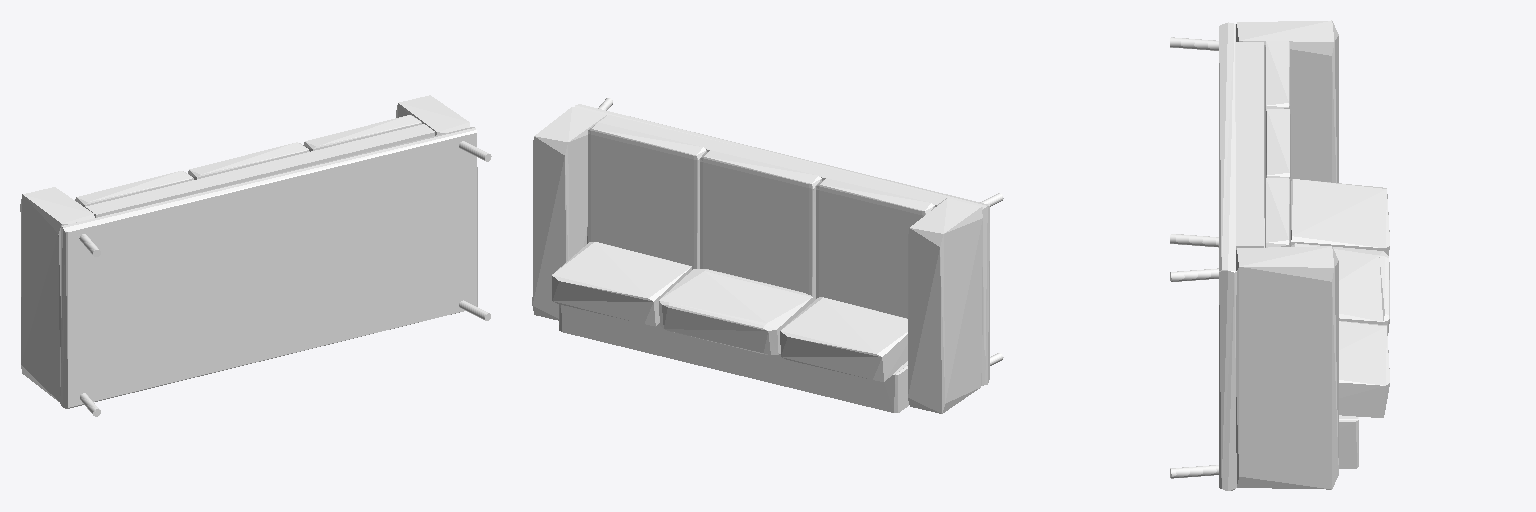
The robot description file, URDF, robot "simple_couch3.obj":
<robot name="simple_couch3.obj">
	<link name="_name">
		<visual>
			<origin xyz="0 0 0" rpy="0 0 0" />
			<geometry>
				<mesh filename="simple_couch3.obj" scale="1.0 1.0 1.0" />
			</geometry>
			<material name="texture">
				<color rgba="1.0 1.0 1.0 1.0" />
			</material>
		</visual>
		<collision>
			<geometry>
				<mesh filename="simple_couch3_vhacd.obj" scale="1.0 1.0 1.0" />
			</geometry>
		</collision>
		<inertial>
			<mass value="1.0" />
			<inertia ixx="1.0" ixy="0.0" ixz="0.0" iyy="1.0" iyz="0.0" izz="1.0" />
		</inertial>
	</link>
</robot>

--- Render facts (derived) ---
3 views of the same robot in one strip: view 1: azimuth 30°, elevation 25°; view 2: azimuth 150°, elevation 25°; view 3: azimuth 270°, elevation 25° (orthographic).
Model simple_couch3.obj with 1 links and 0 joints (none), rooted at _name, posed all joints at 0.
Links seen in each view (by area): view 1: _name; view 2: _name; view 3: _name.
Boxes of the visible links, <box> form: _name: <box>20,95,491,416</box>; _name: <box>532,98,1003,413</box>; _name: <box>1170,20,1389,490</box>.
Bounding box of the posed robot: 2 × 0.7519 × 0.8523 m (x, y, z).
1 mesh visuals loaded from 1 distinct referenced files (1 OBJ).